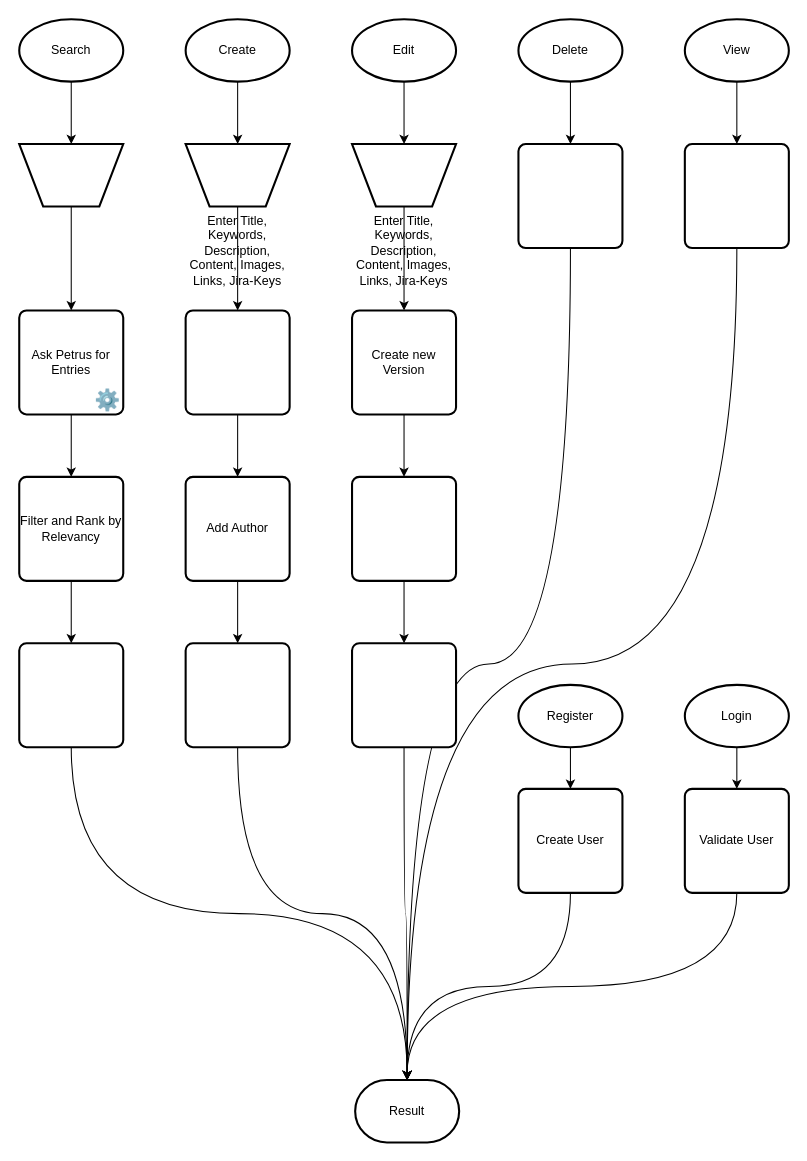
The diagram is 807 pixels wide and 1161 high, and some of its shapes have lost their labels. The shapes that lost their labels are listed below. From the top down, each one's centre as x and y in pixels, then its label:
point (71, 174): Enter Keywords
point (570, 195): Persist last Version as deleted, delete old Versions completely
point (736, 195): Add to View Count
point (237, 362): Create Entry and First Version
point (403, 528): Add Editor
point (71, 695): Sort by Popularity
point (237, 695): Add Creation Time
point (403, 695): Add Time of Last Update
